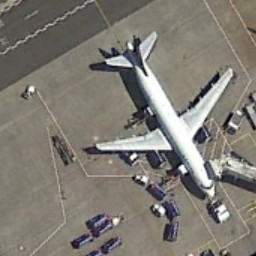Airplane: (75, 24, 243, 213)
